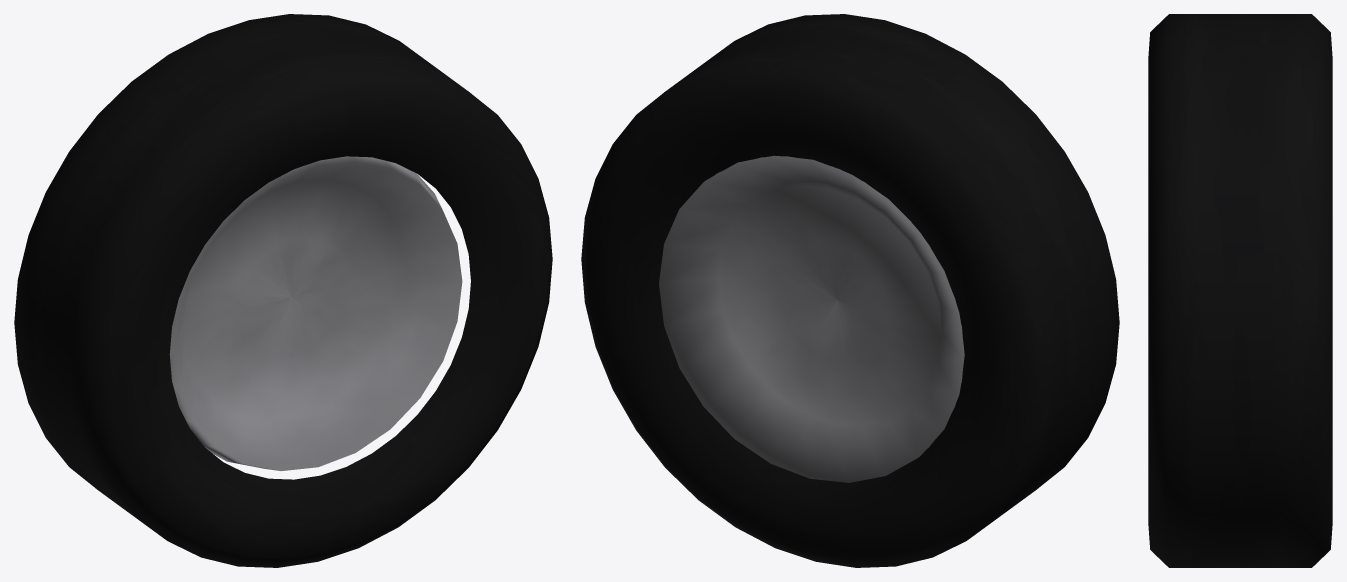
The model's file is tire_L1.glb.
3 views of the same model, side by side, from view 1: azimuth 30°, elevation 25°; view 2: azimuth 150°, elevation 25°; view 3: azimuth 270°, elevation 25° (orthographic). The views are drawn at different scales.
Parts seen in each view (by area): view 1: tire, rim; view 2: tire, rim; view 3: tire.
Boxes of the visible parts, box(x1,y1,x2,y2) form: tire: box(14, 14, 552, 567); rim: box(169, 156, 462, 471); tire: box(581, 14, 1119, 567); rim: box(659, 155, 964, 482); tire: box(1148, 14, 1332, 567).
Size of the model in its own units: 0.632 by 0.632 by 0.2097.
2 materials, 2 textured.
